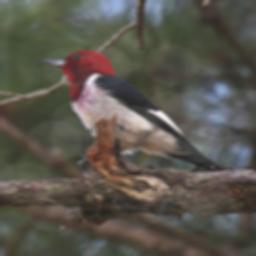Woodpecker: (35, 48, 235, 172)
